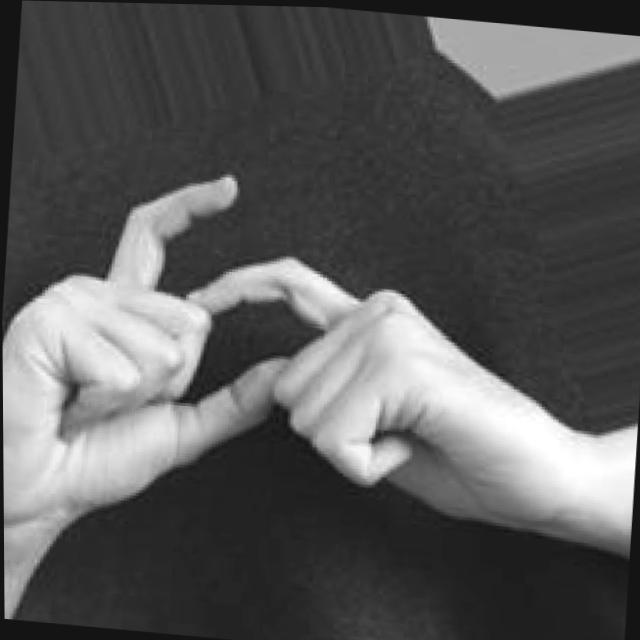G: (1, 151, 595, 640)
